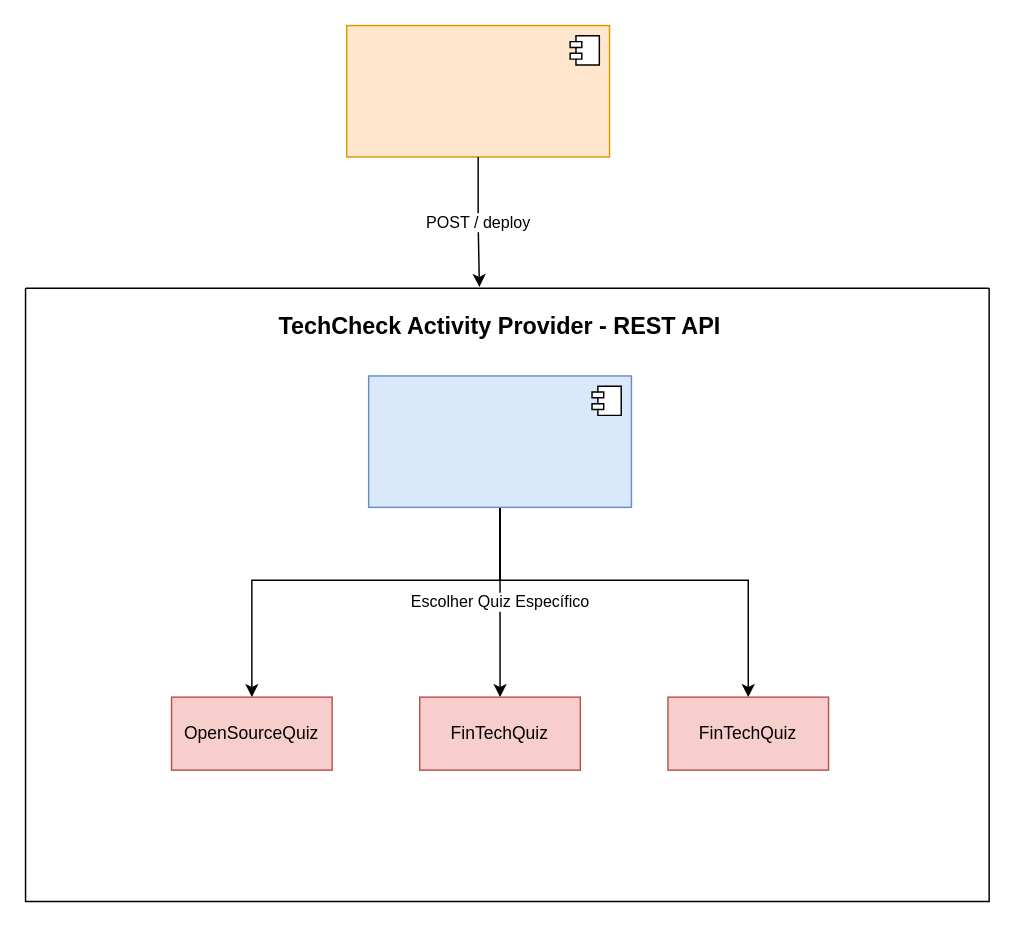
Some shapes in this 1015 by 927 pixel diagram are drawn without their labels. The shapes that lost their labels are listed below. From the top down, each one's box as (x1, y1, x2, y2) in pixels, then its label:
(345, 24, 610, 157): Plataforma Invern!RA
(367, 374, 631, 507): Quiz Factory
